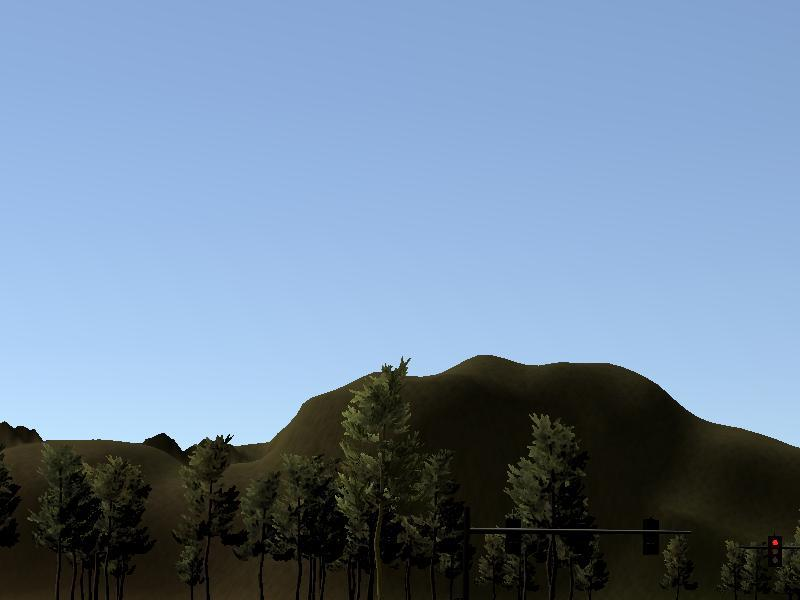Red: (768, 536, 782, 566)
